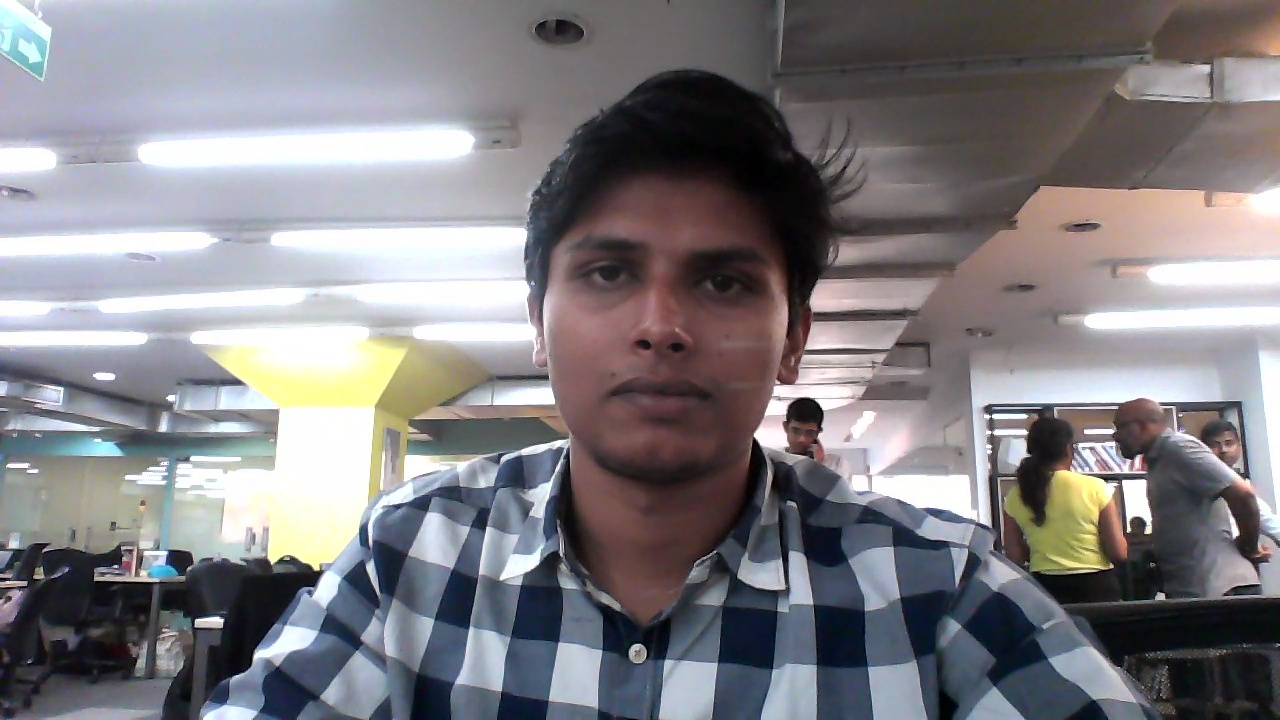open: (525, 69, 839, 492)
